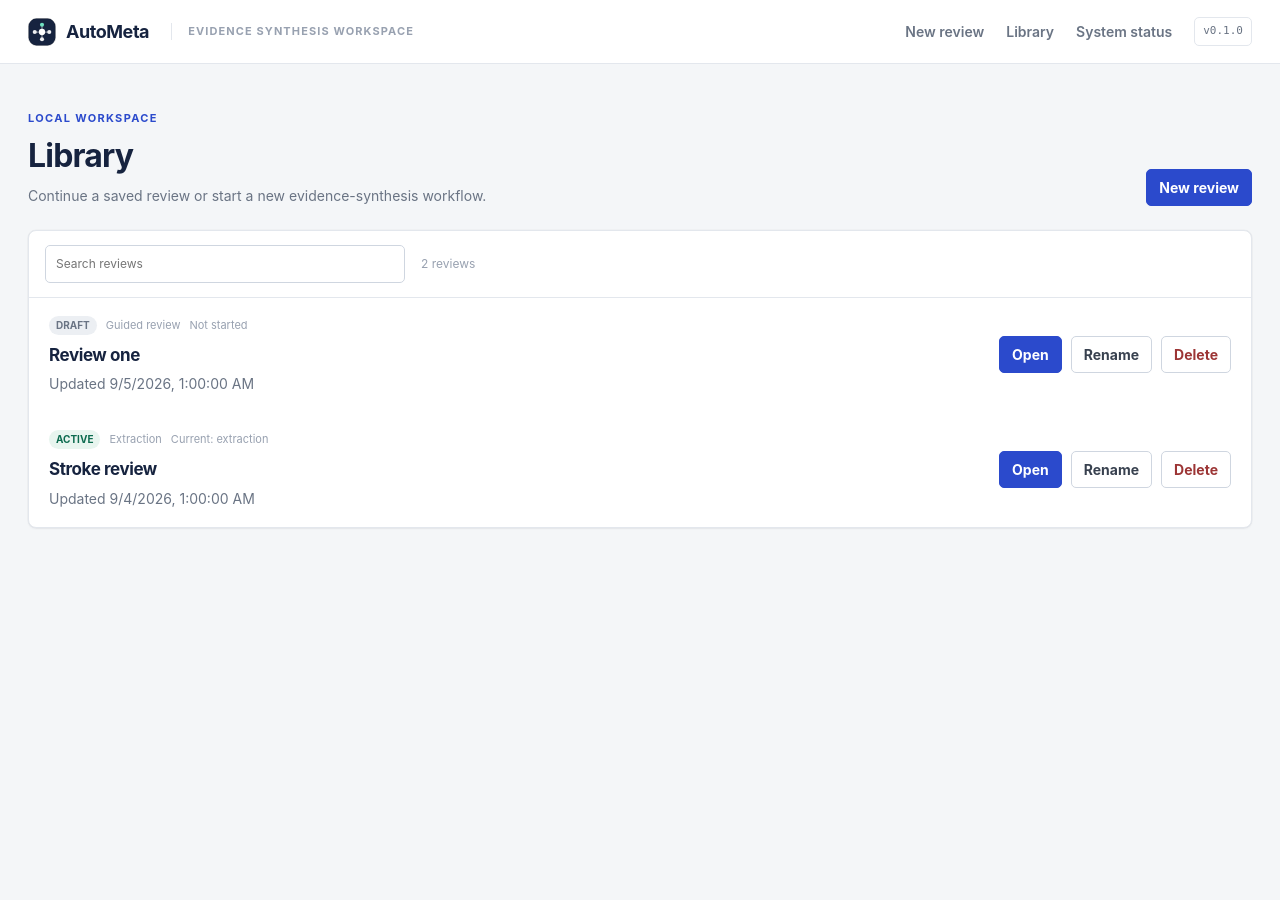
Test case: LibraryPage › renames and permanently deletes with exact-name confirmation
Click the button named "Rename Review one" at (1111, 355), box [1071, 336, 1152, 373]
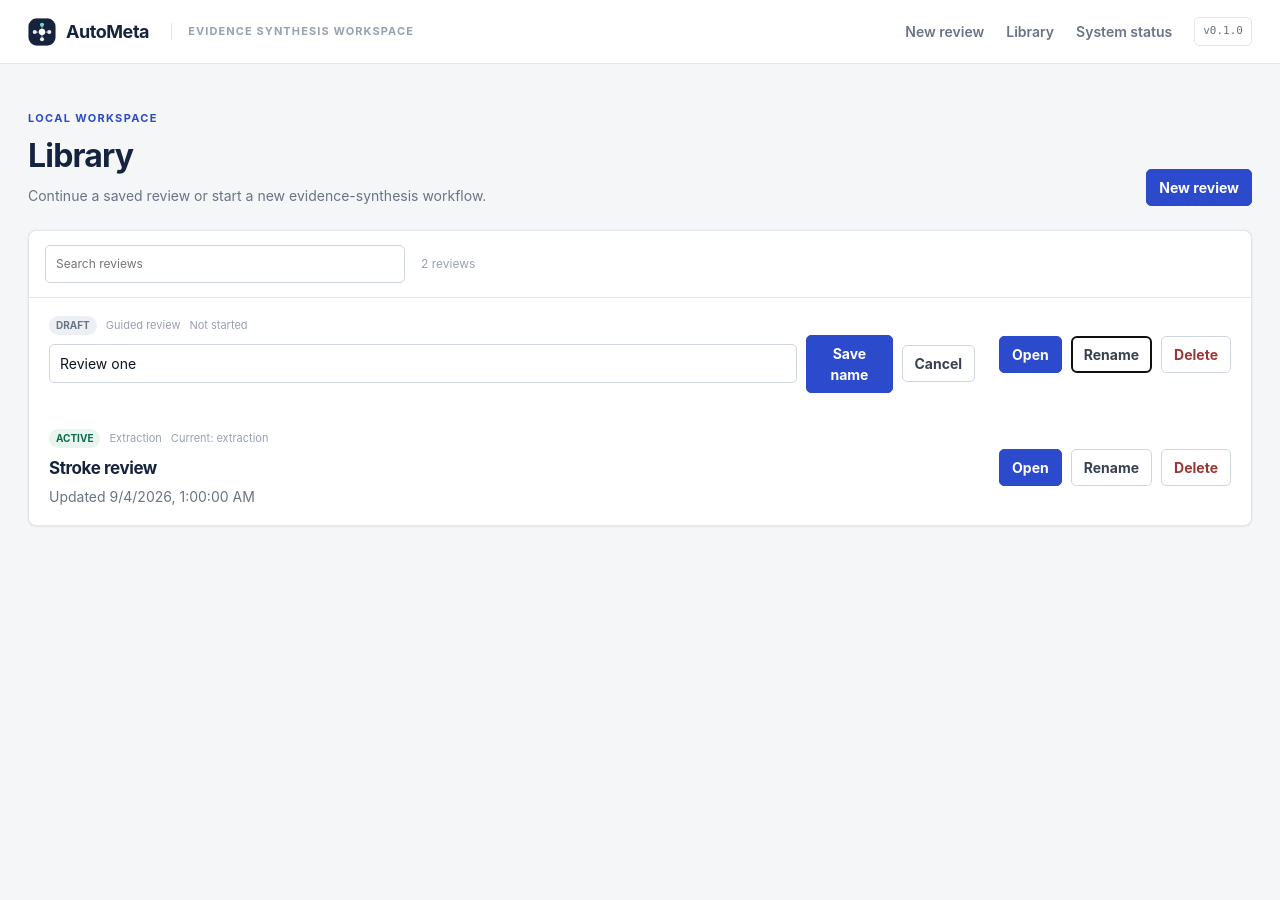
Replace the text in the field named "Review name" with "Renamed review" at (423, 364), box [49, 344, 797, 383]
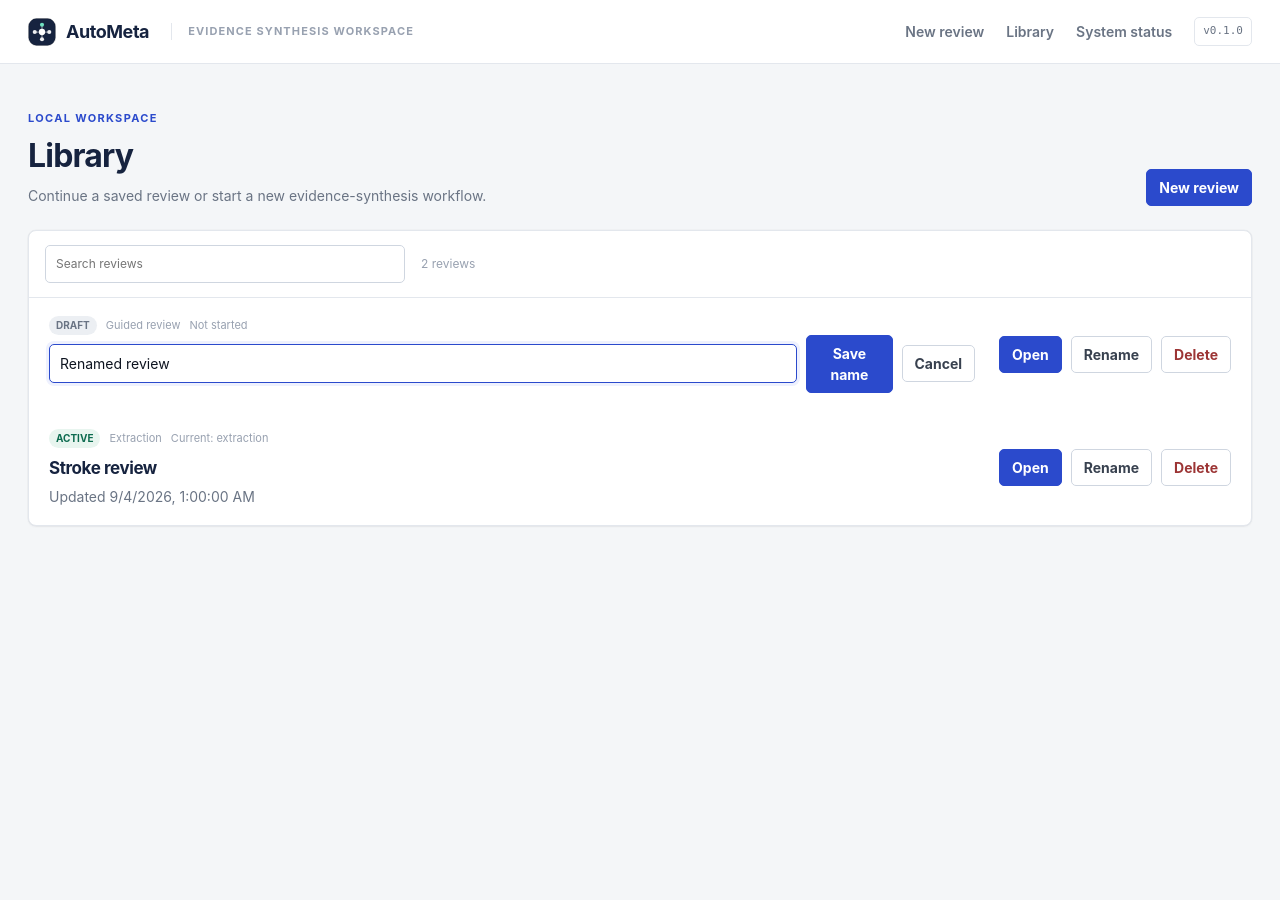
Click the button "Save name" at (849, 364), box [806, 334, 892, 392]
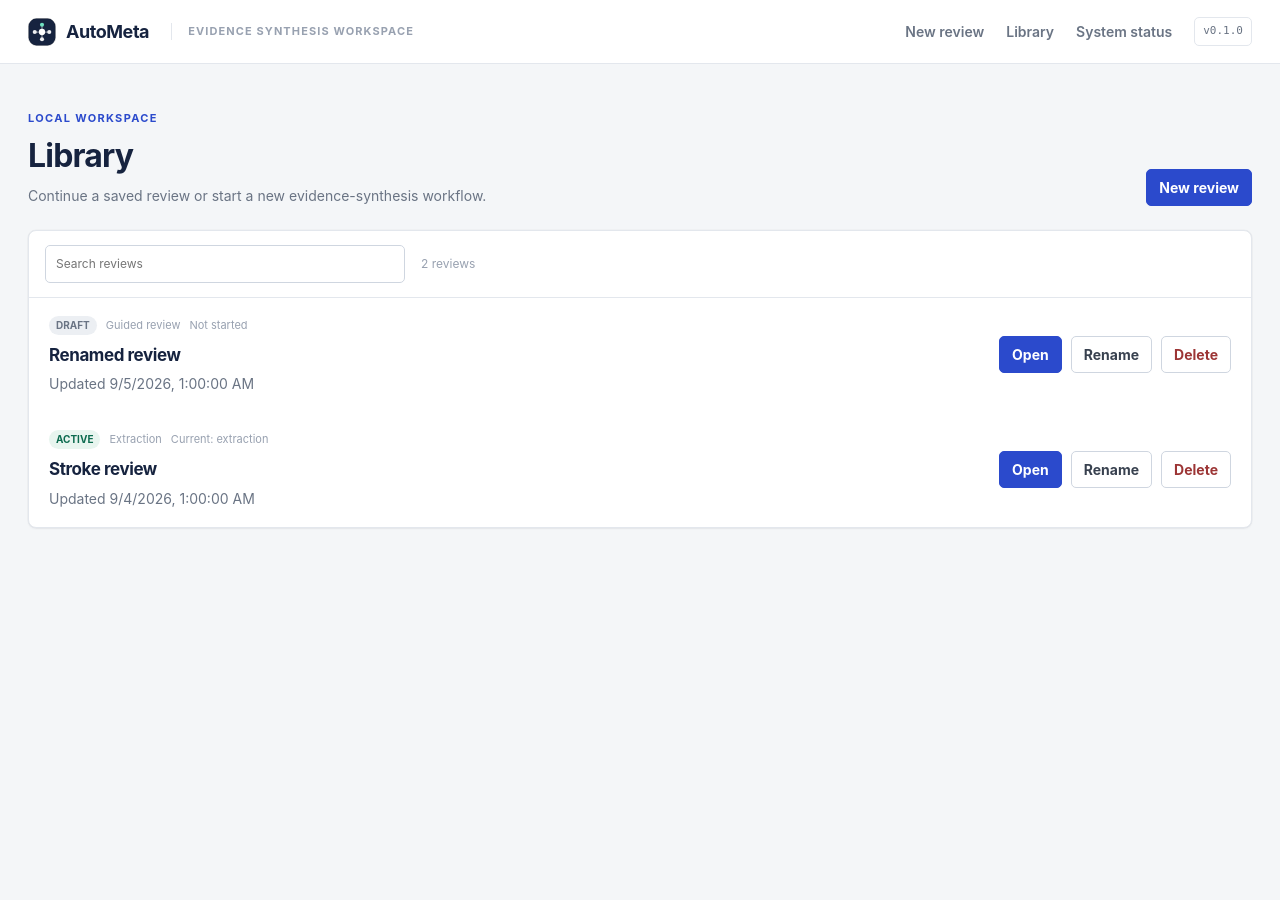
Check: the heading "Renamed review" is shown, box [49, 344, 180, 364]
Click the button named "Delete Renamed review" at (1196, 355), box [1161, 336, 1231, 373]
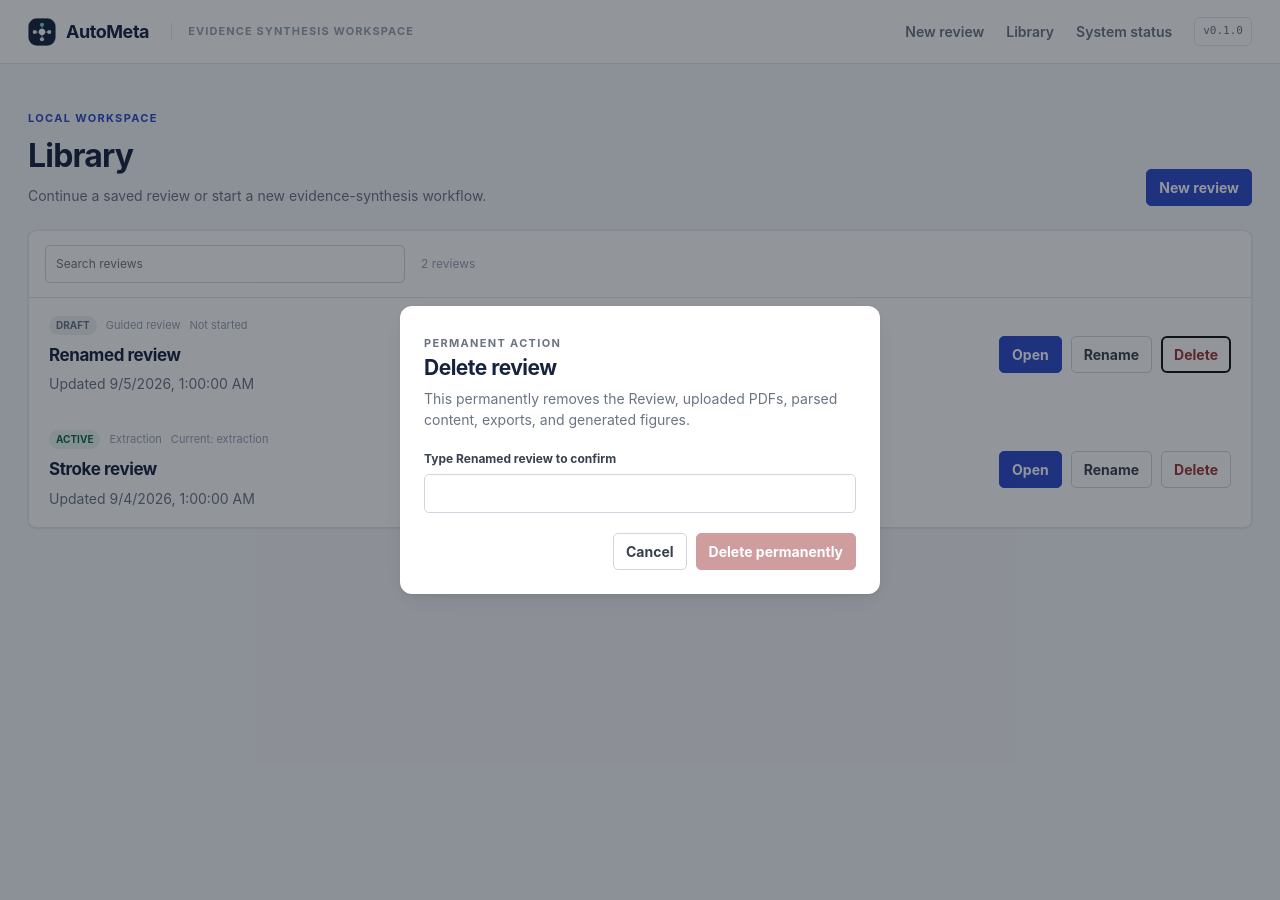
Check: the button "Delete permanently" is disabled, box [696, 533, 856, 570]
Type "Renamed review" into the field labelled "Type Renamed review to confirm" at (640, 494), box [424, 474, 856, 513]
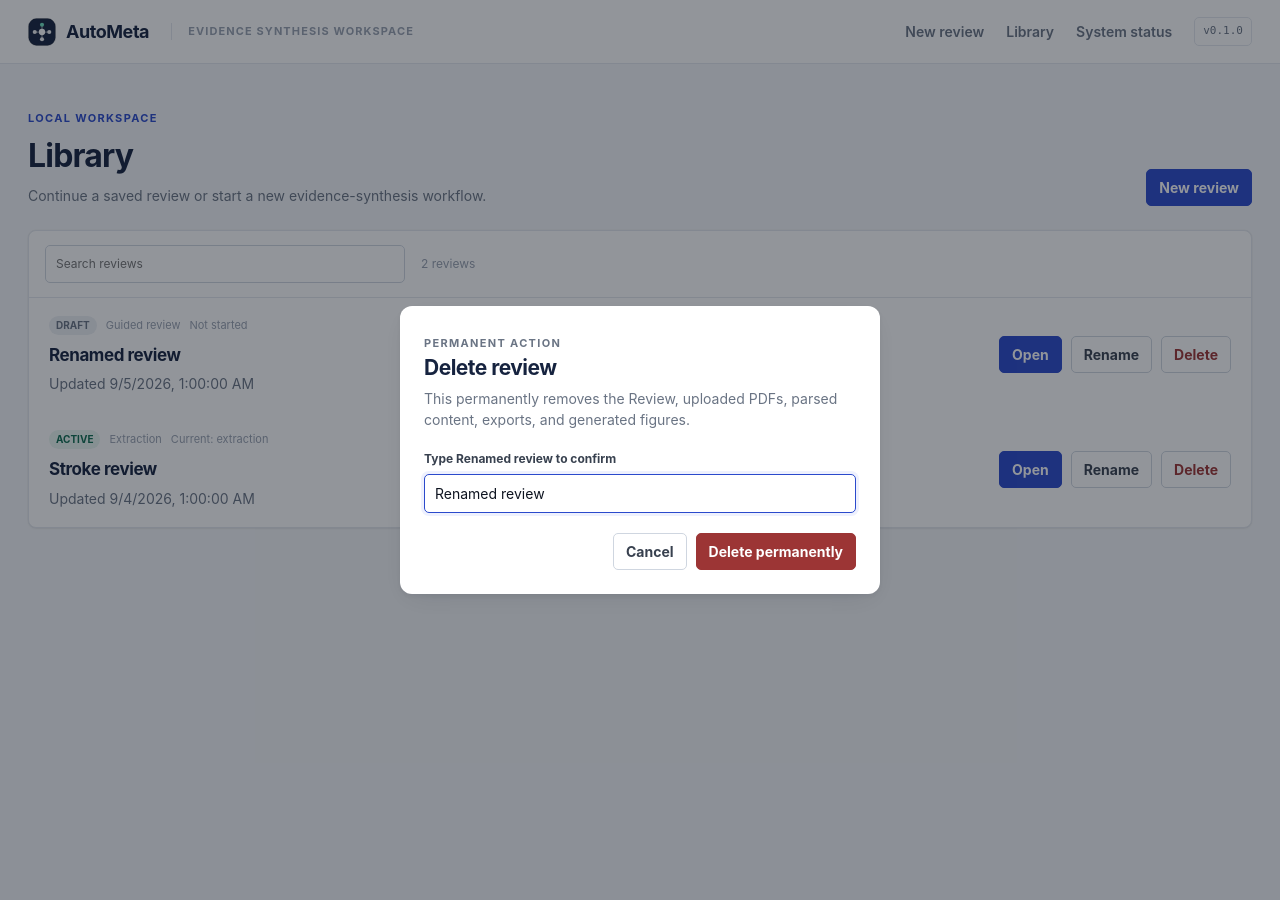
Check: the button "Delete permanently" is enabled
Click the button "Delete permanently" at (776, 552), box [696, 533, 856, 570]
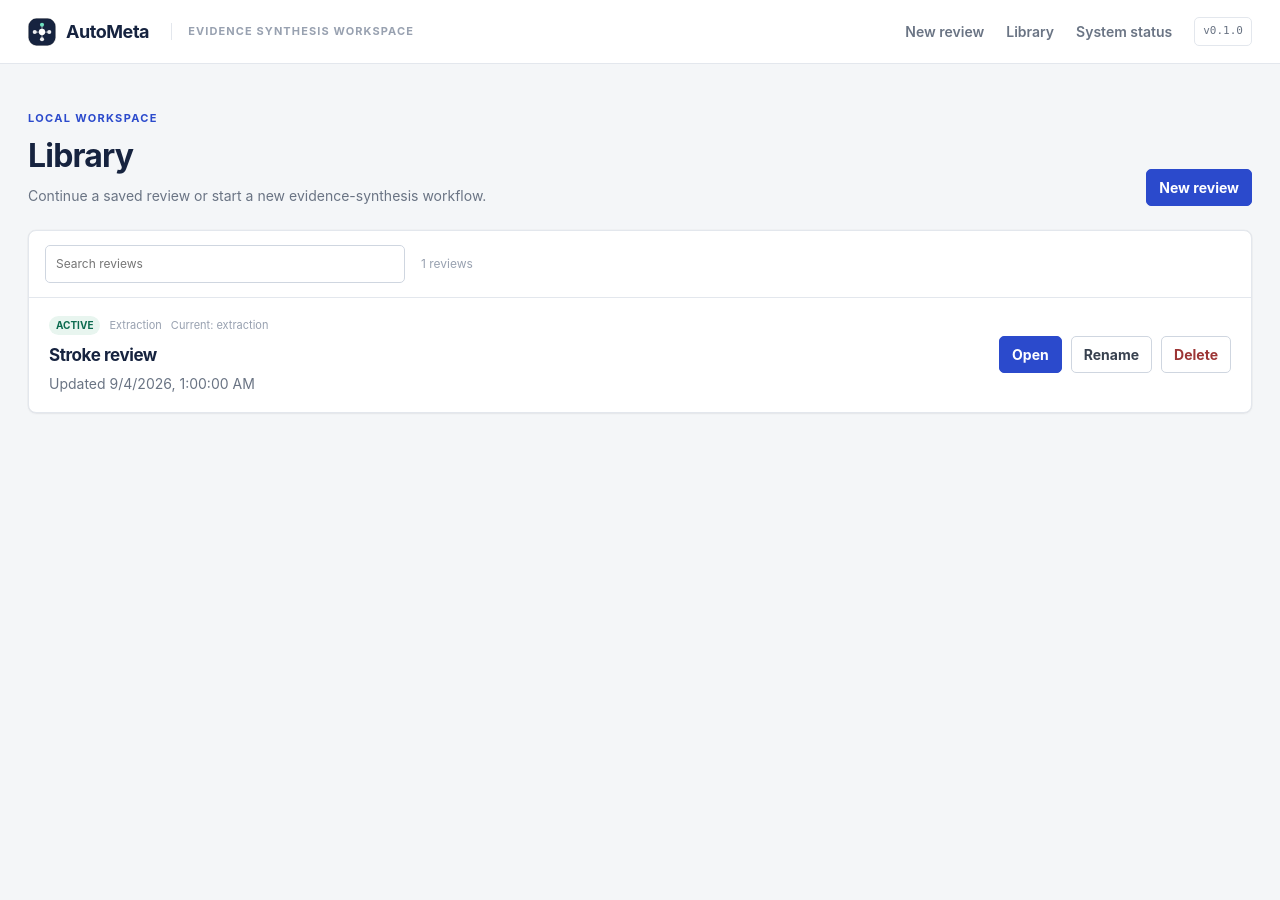
Check: the heading "Renamed review" is gone
